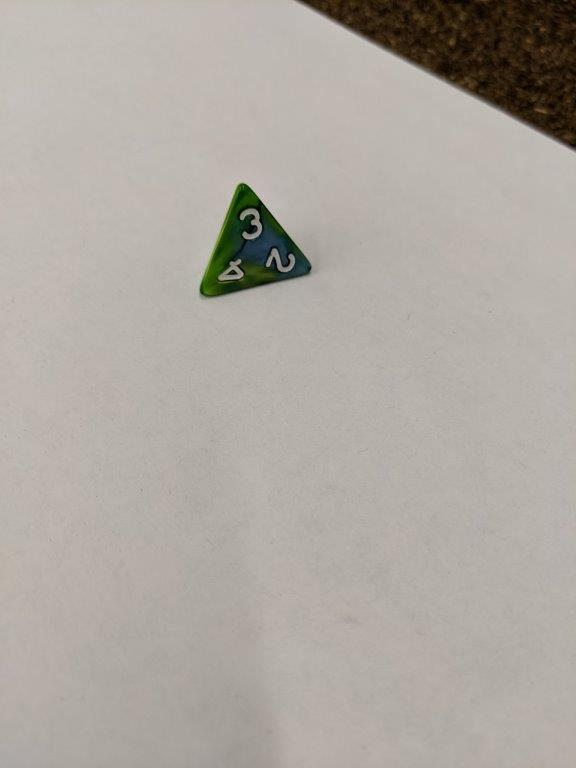d4-3: (198, 180, 311, 300)
